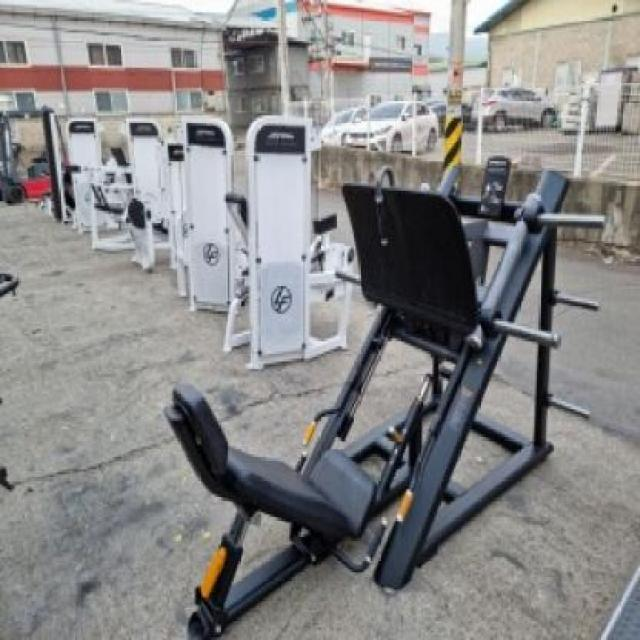leg press: (151, 143, 640, 637)
